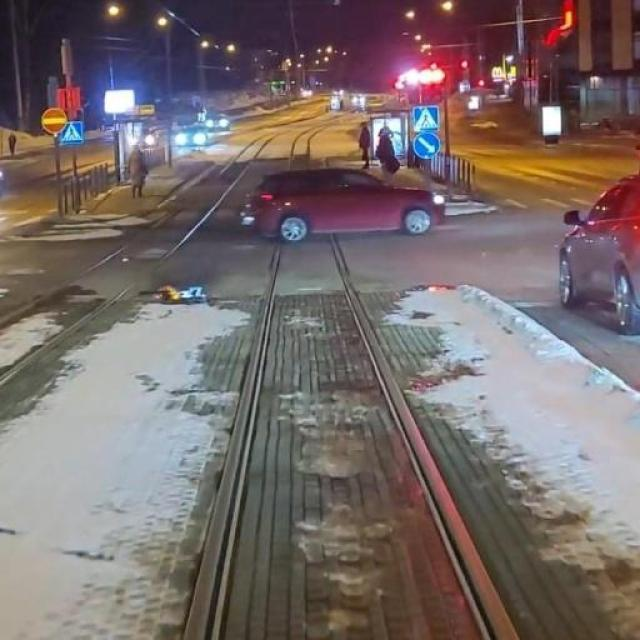vehicle: (245, 163, 457, 252)
